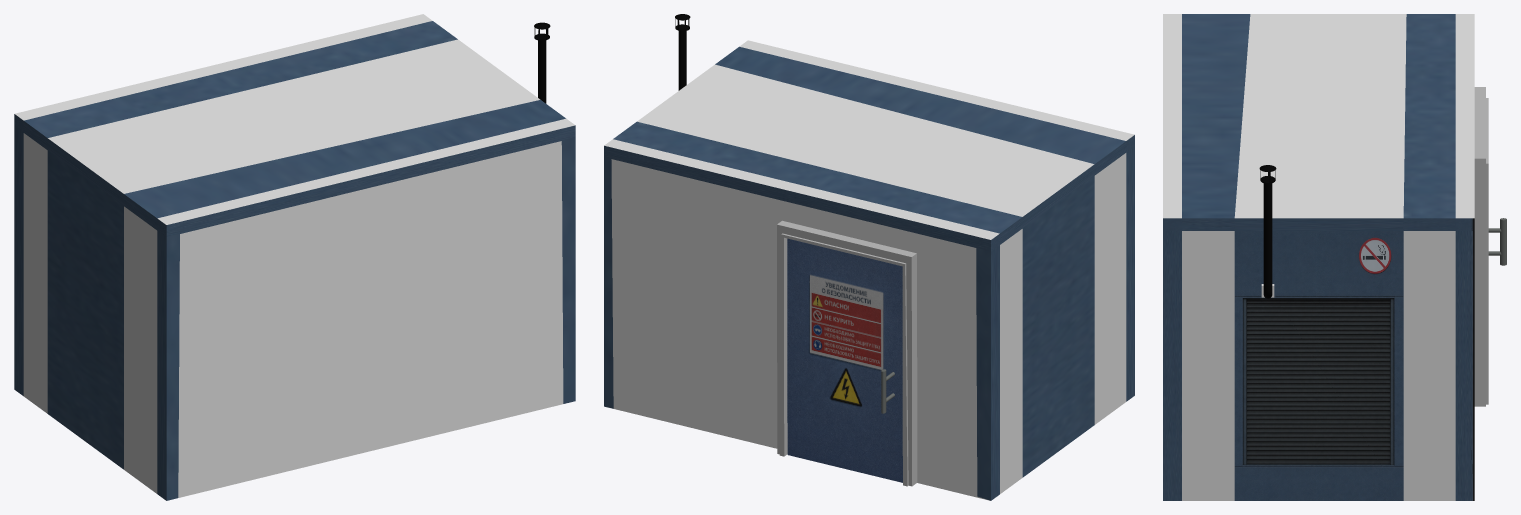
Rendered from Transformator.fbx.
The picture shows the model from 3 angles, left to right: view 1: azimuth 30°, elevation 25°; view 2: azimuth 150°, elevation 25°; view 3: azimuth 270°, elevation 25°; orthographic projection. The views are drawn at different scales.
Parts seen in each view (by area): view 1: Transformator; view 2: Transformator, Door4.001, Doorframe1.002; view 3: Transformator, Doorframe1.002, Door4.001.
Part boxes in pixels (x1,y1,x2,y2): Transformator: (14, 14, 575, 500); Transformator: (604, 14, 1134, 500); Door4.001: (787, 238, 902, 482); Doorframe1.002: (777, 220, 917, 486); Transformator: (1163, 14, 1474, 500); Doorframe1.002: (1474, 87, 1488, 406); Door4.001: (1488, 218, 1506, 265).
Bounding box in the file's own units: 329 × 244 × 221.
